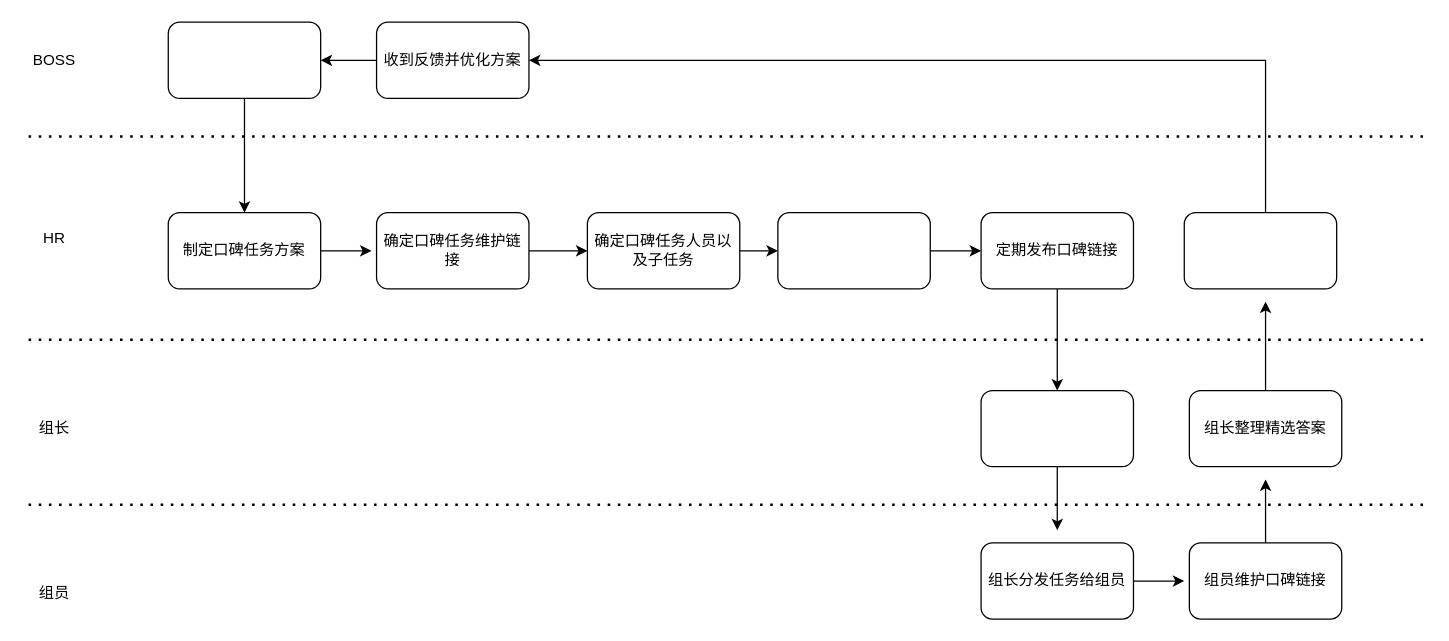
Some shapes in this 1449 by 641 pixel diagram are drawn without their labels. Each missing label, with the box of its shape:
任务派发给各组组长: (980, 389, 1133, 467)
制定口碑任务操作说明书: (777, 211, 930, 289)
发布口碑任务计划: (167, 21, 321, 98)
定期统计所有任务完成情况: (1183, 211, 1337, 289)
